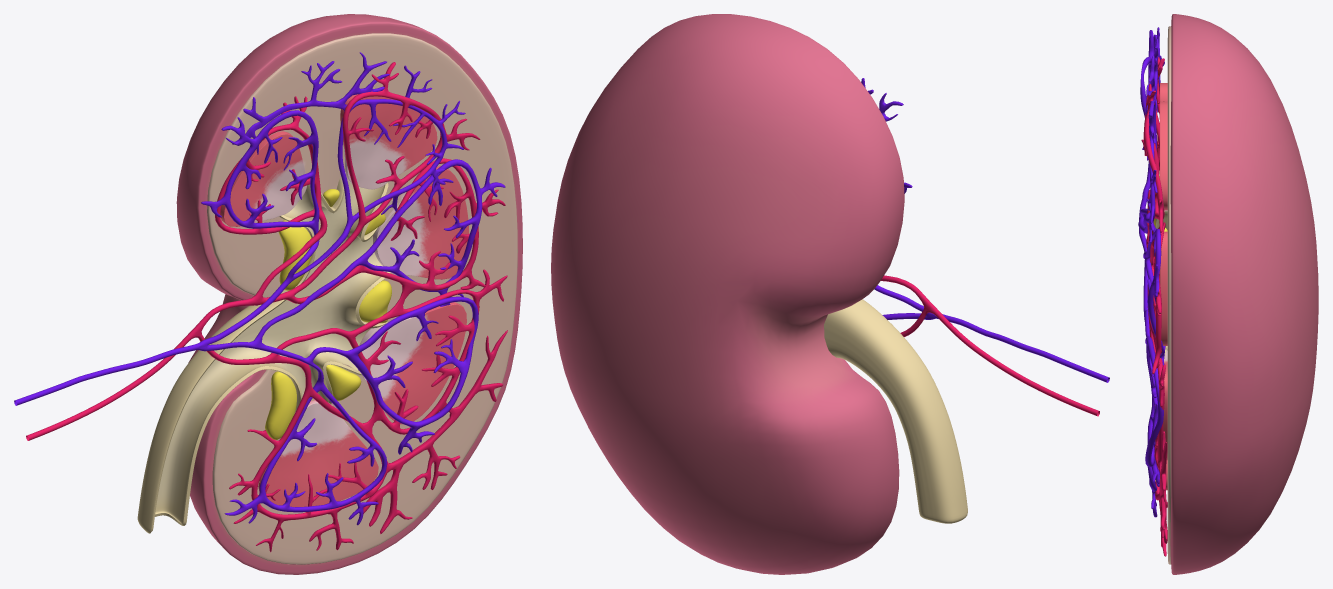
File: kidney.glb
3 renders of one model, left to right at view 1: azimuth 30°, elevation 25°; view 2: azimuth 150°, elevation 25°; view 3: azimuth 270°, elevation 25°, orthographic. The views are drawn at different scales.
Visible parts, largest first — view 1: h_lambert2_0; view 2: h_lambert2_0; view 3: h_lambert2_0.
Boxes of the visible parts, x1=… form: h_lambert2_0: x1=14, y1=14, x2=522, y2=574; h_lambert2_0: x1=551, y1=14, x2=1109, y2=574; h_lambert2_0: x1=1138, y1=14, x2=1318, y2=574.
Bounding box in the file's own units: 0.1839 × 0.1826 × 0.0565.
2 materials, 2 textured.
